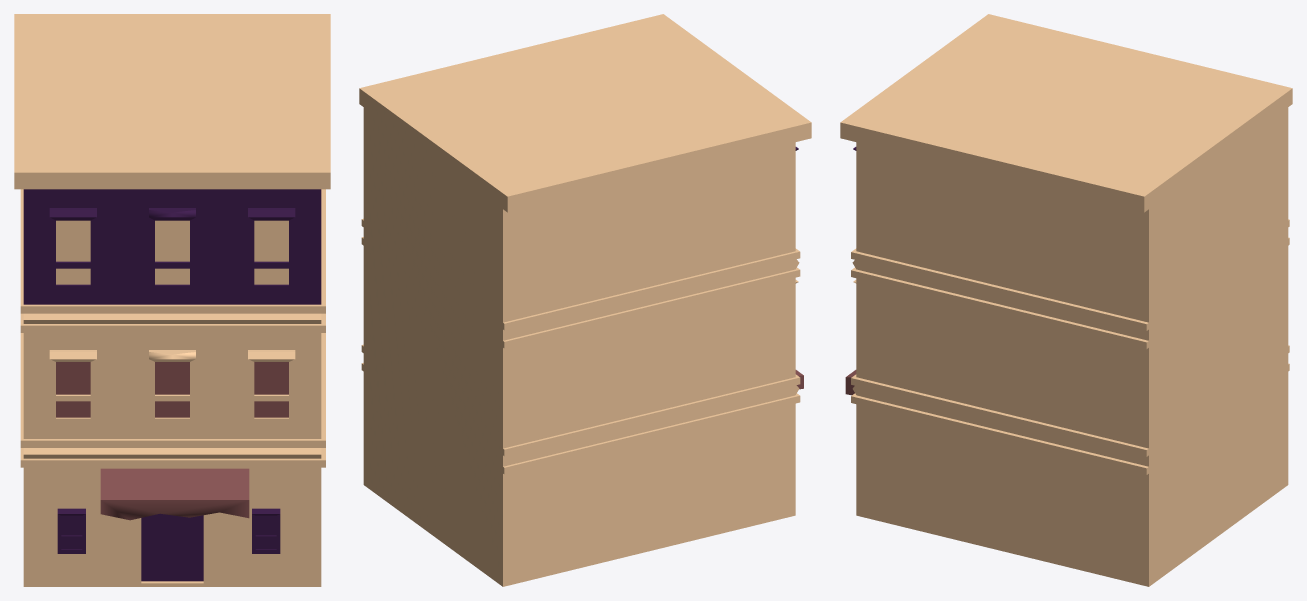
The model's file is Toy205.fbx.
3 views of the same model, side by side, from view 1: azimuth 30°, elevation 25°; view 2: azimuth 150°, elevation 25°; view 3: azimuth 270°, elevation 25° (orthographic). The views are drawn at different scales.
Visible parts, largest first — view 1: Toy205; view 2: Toy205; view 3: Toy205.
Part boxes in pixels (<box>): Toy205: <box>14,14,330,586</box>; Toy205: <box>359,14,811,586</box>; Toy205: <box>840,14,1292,586</box>.
Size of the model in its own units: 0.1301 by 0.1307 by 0.1362.
